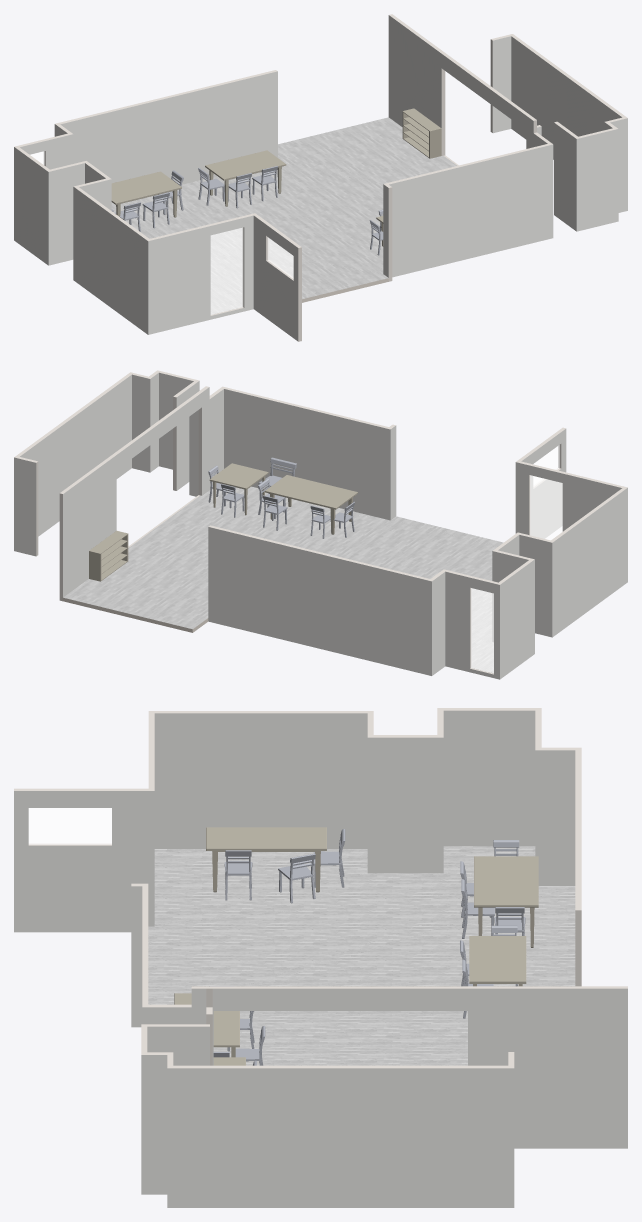
File: LoungeModel.glb
3 renders of one model, top to bottom at view 1: azimuth 30°, elevation 25°; view 2: azimuth 150°, elevation 25°; view 3: azimuth 270°, elevation 25°, orthographic. The views are drawn at different scales.
Visible parts, largest first — view 1: floor_Dining_Room, wall_9, wall_49, wall_3, wall_1, wall_13, wall_31, wall_6, wall_18, wall_7, wall_2, door_0 (+19 smaller); view 2: floor_Dining_Room, wall_14, wall_39, wall_1, wall_31, wall_13, wall_7, wall_17, wall_27, wall_18, wall_16, wall_0 (+22 smaller); view 3: floor_Dining_Room, wall_5, wall_47, wall_23, wall_57, wall_35, wall_59, wall_41, wall_8, table_dining_rect2, table_dining_rect4, window_0 (+12 smaller).
Part boxes in pixels (x1,y1,x2,y2): floor_Dining_Room: (111,117,456,314); wall_9: (389,144,553,277); wall_49: (60,71,277,184); wall_3: (148,215,253,334); wall_1: (73,187,148,334); wall_13: (388,15,527,148); wall_31: (511,36,621,159); wall_6: (576,129,618,231); wall_18: (253,216,298,341); wall_7: (14,147,48,265); wall_2: (48,163,84,265); door_0: (211,228,242,314); floor_Dining_Room: (63,486,503,672); wall_14: (208,527,431,675); wall_39: (224,389,390,520); wall_1: (552,488,627,637); wall_31: (20,375,131,536); wall_13: (63,391,203,597); wall_7: (500,559,534,679); wall_17: (445,571,499,679); wall_27: (515,462,621,534); wall_18: (521,429,566,538); wall_16: (14,457,36,556); wall_0: (519,535,552,637); floor_Dining_Room: (148,846,575,1065); wall_5: (167,1068,514,1207); wall_47: (212,988,627,1148); wall_23: (154,713,367,848); wall_57: (14,791,154,932); wall_35: (443,710,535,846); wall_59: (367,737,443,873); wall_41: (535,750,575,885); wall_8: (141,1055,167,1194); table_dining_rect2: (474,856,538,947); table_dining_rect4: (206,827,326,892); window_0: (29,808,111,844).
Size of the model in its own units: 13.96 by 2.89 by 10.06.
69 materials, 1 textured.
